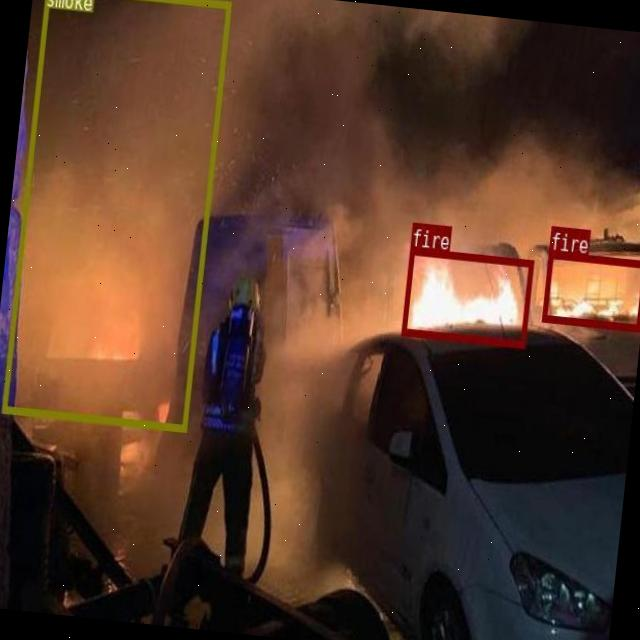fire: (401, 248, 533, 346), (540, 250, 640, 329)
smoke: (1, 0, 230, 429)
